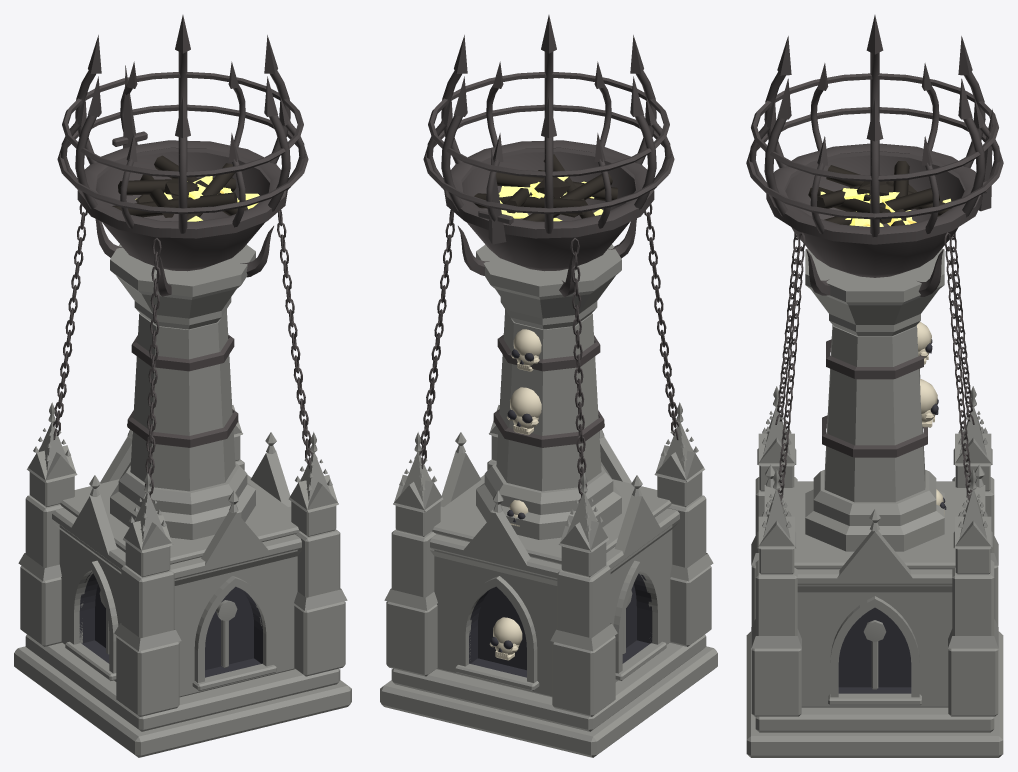
File: tower_pyre_3.glb
The picture shows the model from 3 angles, left to right: view 1: azimuth 30°, elevation 25°; view 2: azimuth 150°, elevation 25°; view 3: azimuth 270°, elevation 25°; orthographic projection. The views are drawn at different scales.
Visible parts, largest first — view 1: tower; view 2: tower; view 3: tower.
Boxes of the visible parts, x1,y1,x2,y2 form: tower: (14, 15, 351, 757); tower: (380, 15, 717, 757); tower: (746, 15, 1003, 757).
Bounding box in the file's own units: 1.7 × 4.74 × 1.7.
